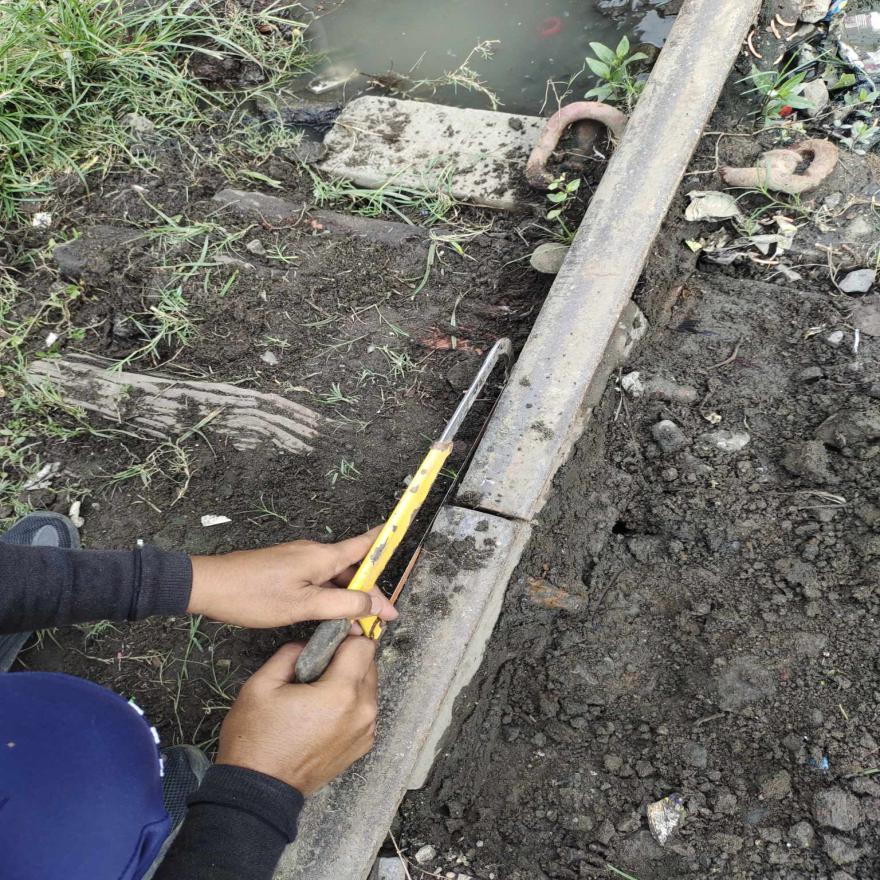railway-gap: (422, 468, 556, 559)
